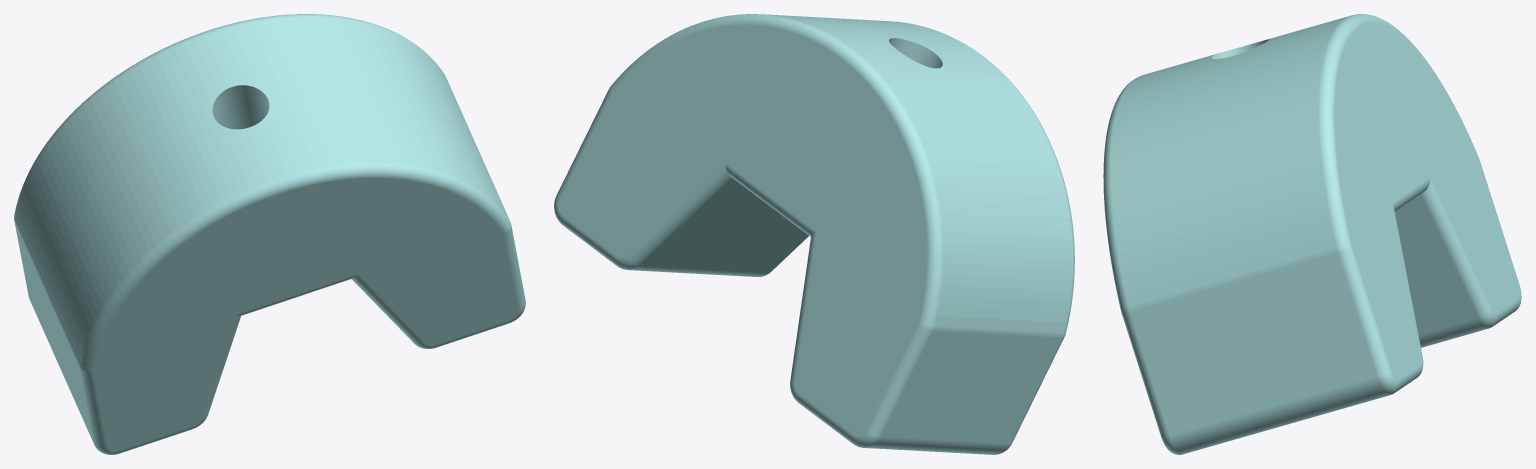
Rendered from boweye_jig_opt.glb.
The picture shows the model from 3 angles, left to right: view 1: azimuth 30°, elevation 25°; view 2: azimuth 150°, elevation 25°; view 3: azimuth 270°, elevation 25°; orthographic projection. The views are drawn at different scales.
Visible parts, largest first — view 1: boweye_jig; view 2: boweye_jig; view 3: boweye_jig.
Boxes of the visible parts, x1,y1,x2,y2 form: boweye_jig: (14, 14, 525, 454); boweye_jig: (554, 14, 1074, 454); boweye_jig: (1103, 14, 1521, 454).
Bounding box in the file's own units: 3.28 × 2.76 × 2.48.
